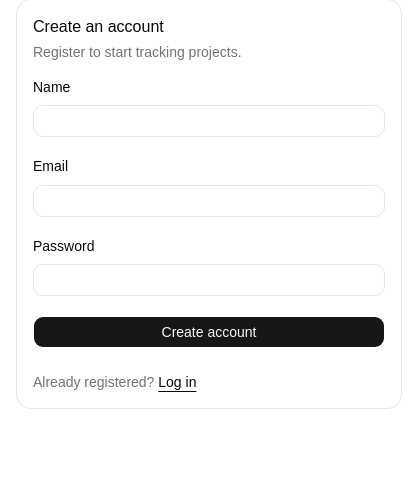
Test: RegisterPage › shows a friendly message for a 429 response
Type "Ada" into the field labelled "Name" at (209, 121), box [33,105,385,137]
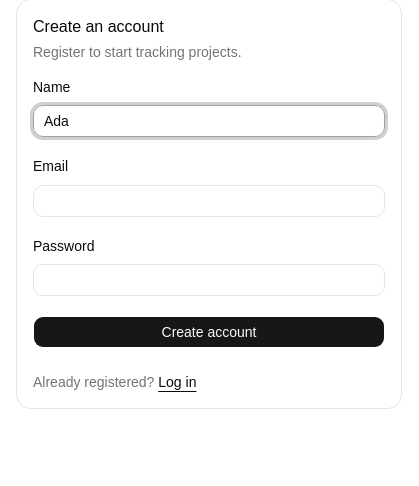
Type "ada@example.com" into the field labelled "Email" at (209, 200), box [33,184,385,216]
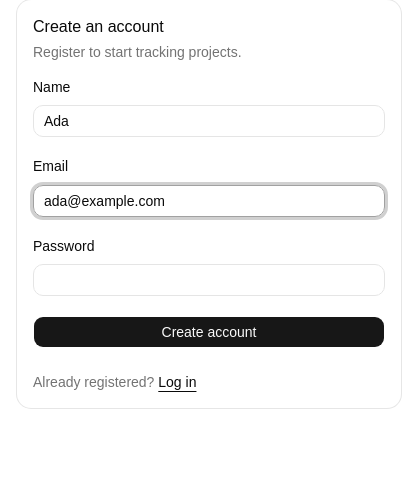
Type "correct horse" into the password field labelled "Password" at (209, 280), box [33,264,385,296]
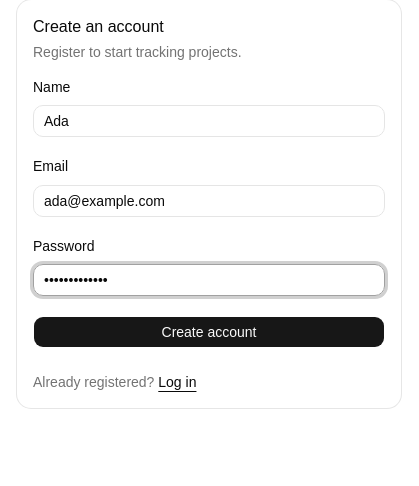
Click the button "Create account" at (209, 332), box [33,316,385,348]
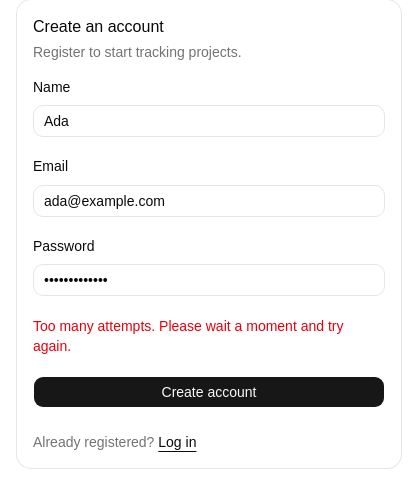
Now the text "Too many attempts. Please wait a moment and try again." is shown, box [33,316,385,356]
